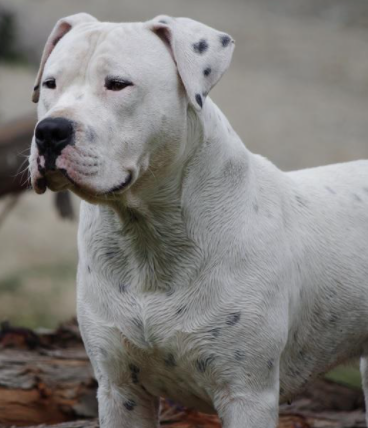dog: (28, 12, 368, 421)
